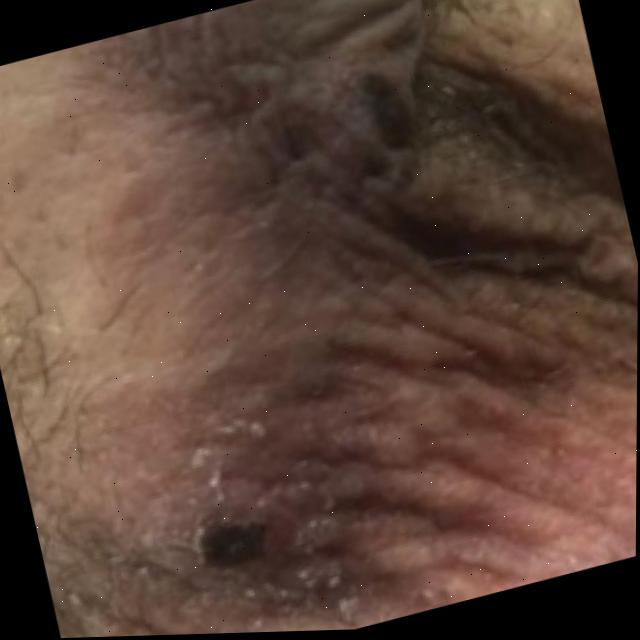Eczema: (86, 394, 345, 637)
